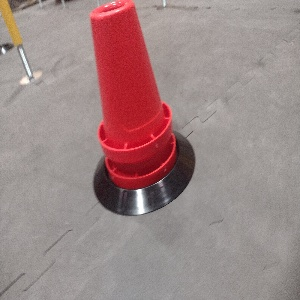Red_2: (77, 0, 183, 192)
